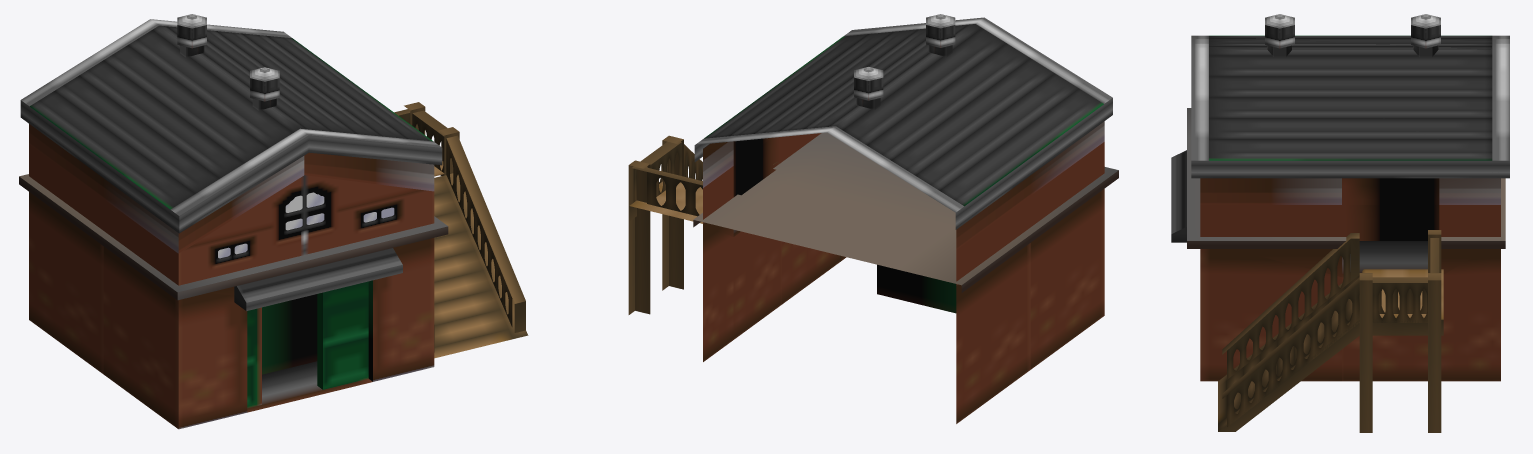
The model's file is house_3.obj.
The picture shows the model from 3 angles, left to right: view 1: azimuth 30°, elevation 25°; view 2: azimuth 150°, elevation 25°; view 3: azimuth 270°, elevation 25°; orthographic projection.
Visible parts, largest first — view 1: house_3; view 2: house_3; view 3: house_3.
Part boxes in pixels (left/top/right/bottom): house_3: left=19, top=14, right=528, bottom=429; house_3: left=628, top=14, right=1118, bottom=423; house_3: left=1171, top=14, right=1509, bottom=432.
Bounding box in the file's own units: 1.51 × 1.21 × 1.31.
Materials: 1 (1 with a texture image).
